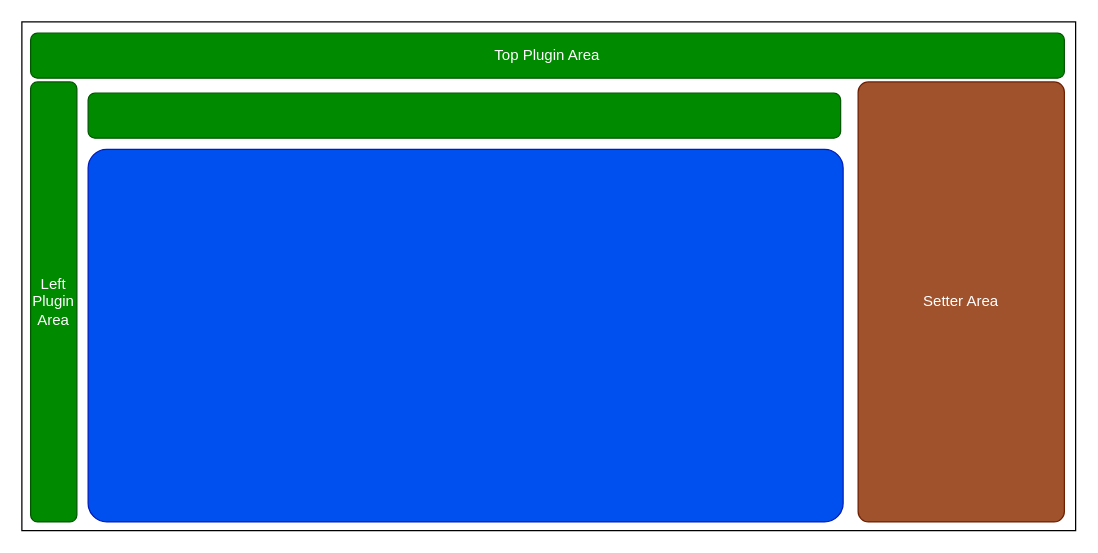
The diagram is 1098 pixels wide and 553 high, and some of its shapes have lost their labels. The shapes that lost their labels are listed below. From the top down, each one's box as (x1, y1, x2, y2) in pixels, then its label:
(87, 92, 841, 138): Tool Plugin Area
(87, 148, 843, 522): Canvas
